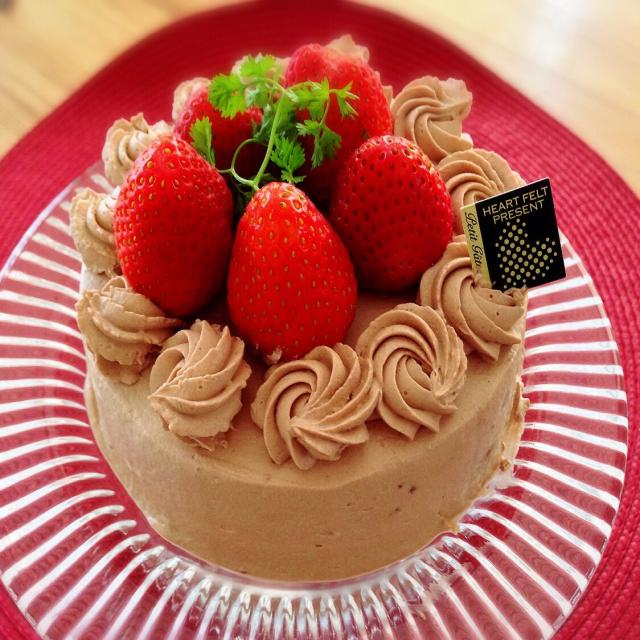chocolatecake: (68, 39, 547, 582)
